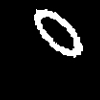chain: (34, 9, 82, 57)
